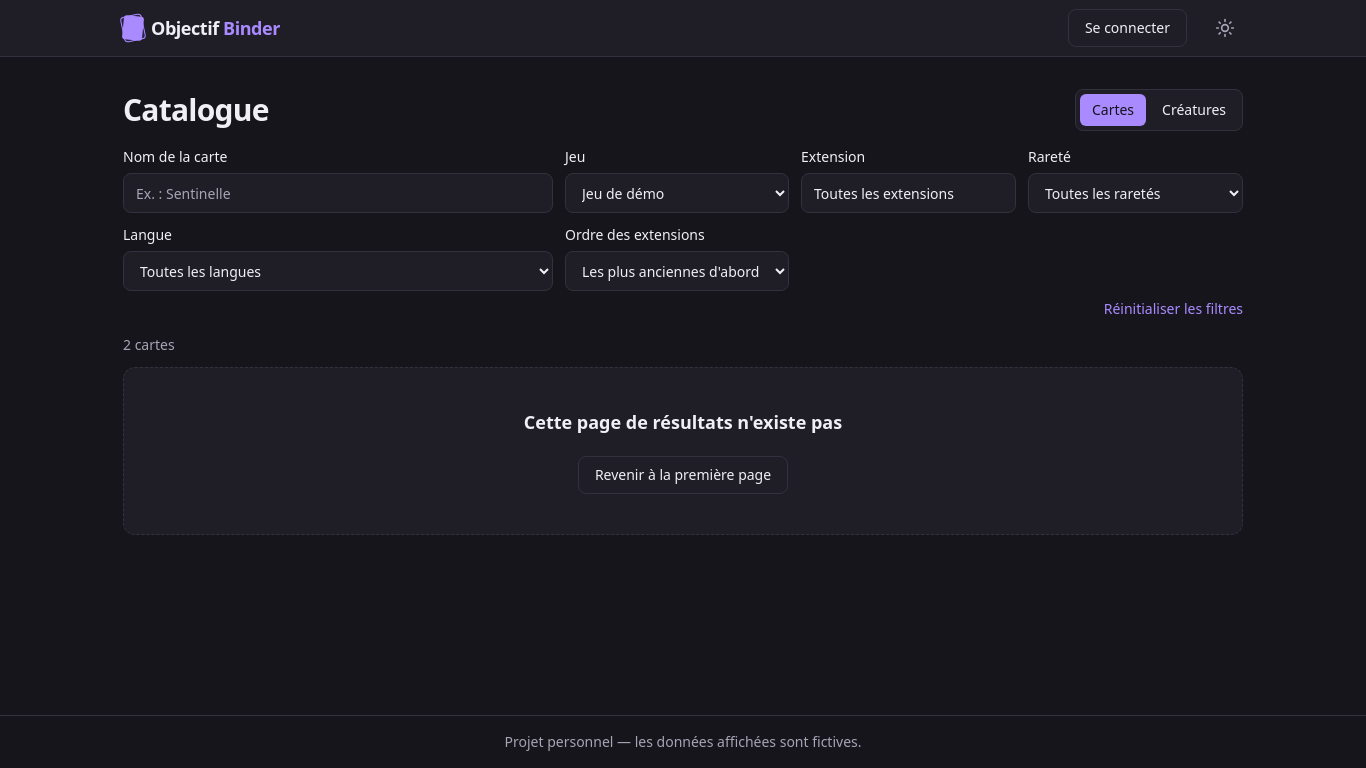
Test: CardSearchPage › empty and error states › leads back to the first page from a page number that does not exist
Expected: the heading "Cette page de résultats n'existe pas" is shown, top-left (524, 410), bottom-right (842, 434)
Click the link "Revenir à la première page": (683, 475) top-left (578, 456), bottom-right (788, 494)
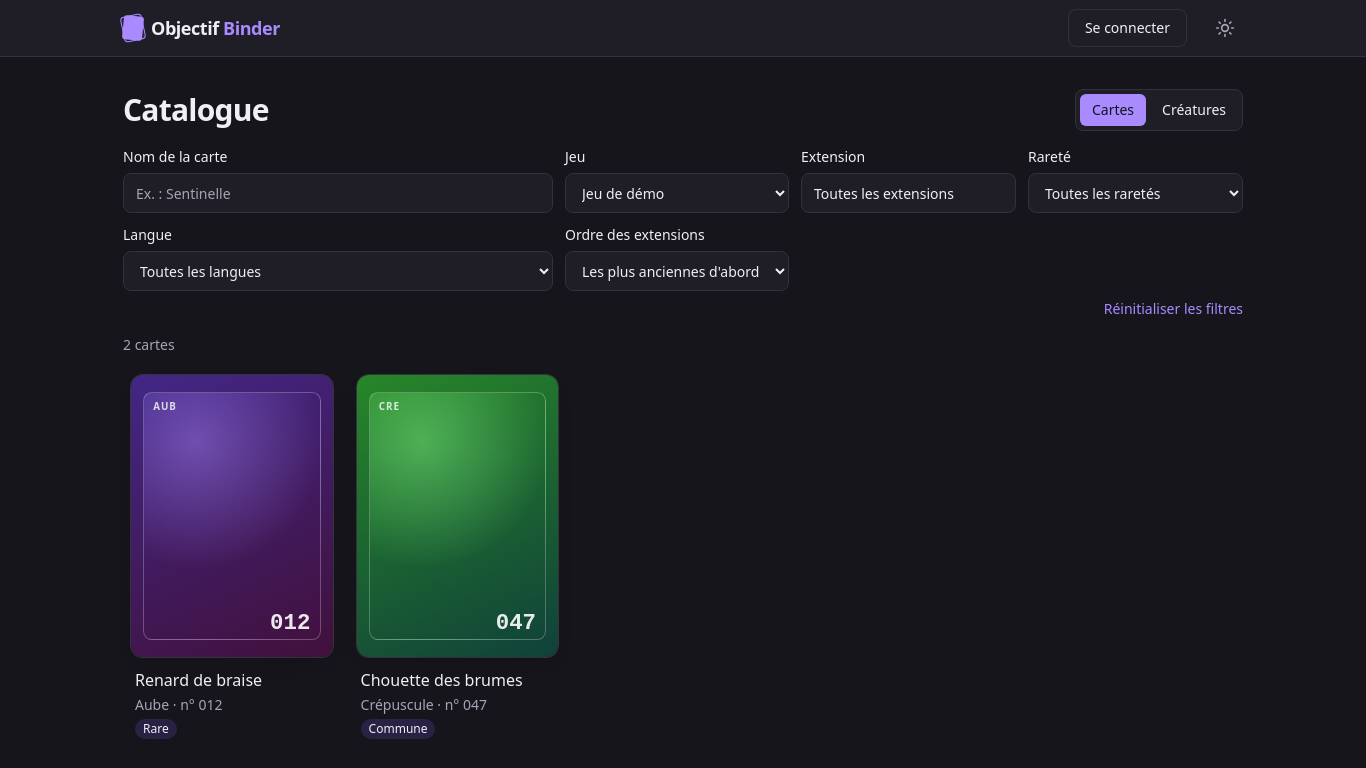
Now the heading "Renard de braise" is shown, box top-left (135, 669), bottom-right (262, 691)
